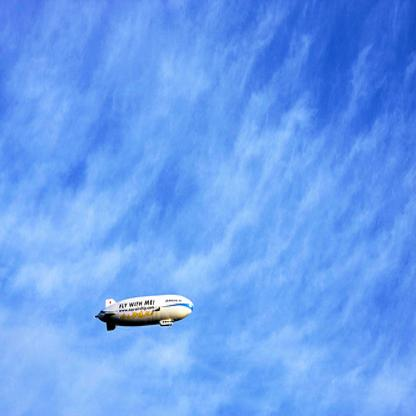Airship: (89, 290, 200, 337)
